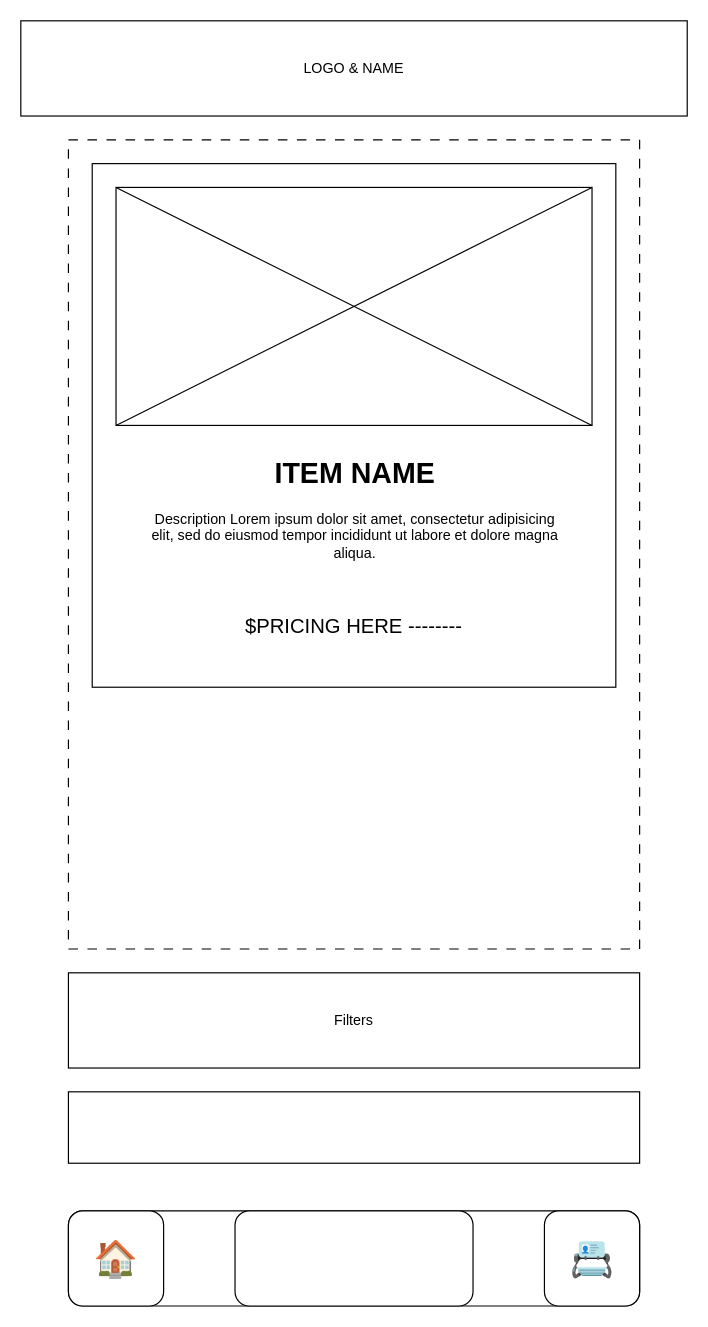
This 708x1327 diagram has some shape labels left out. Each missing label, with the centre of its shape:
SEARCHBAR 🔎: the point at 353,1127
🛒 CATALOG: the point at 353,1258
